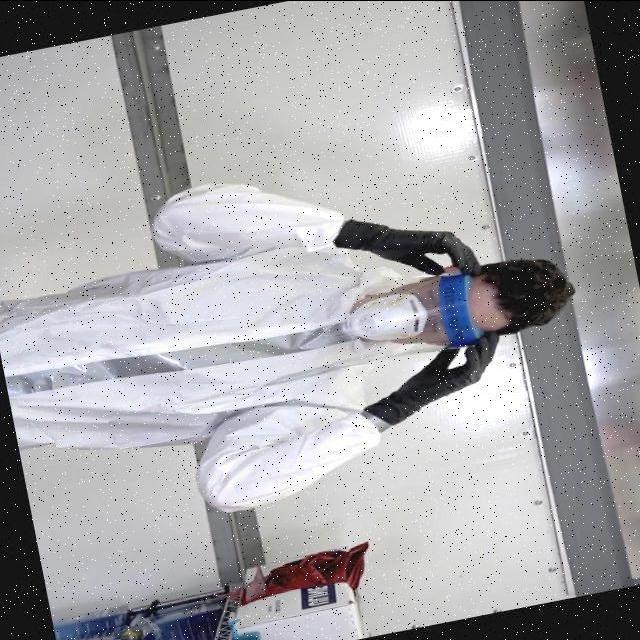apron: (347, 342, 506, 418), (337, 204, 486, 270)
